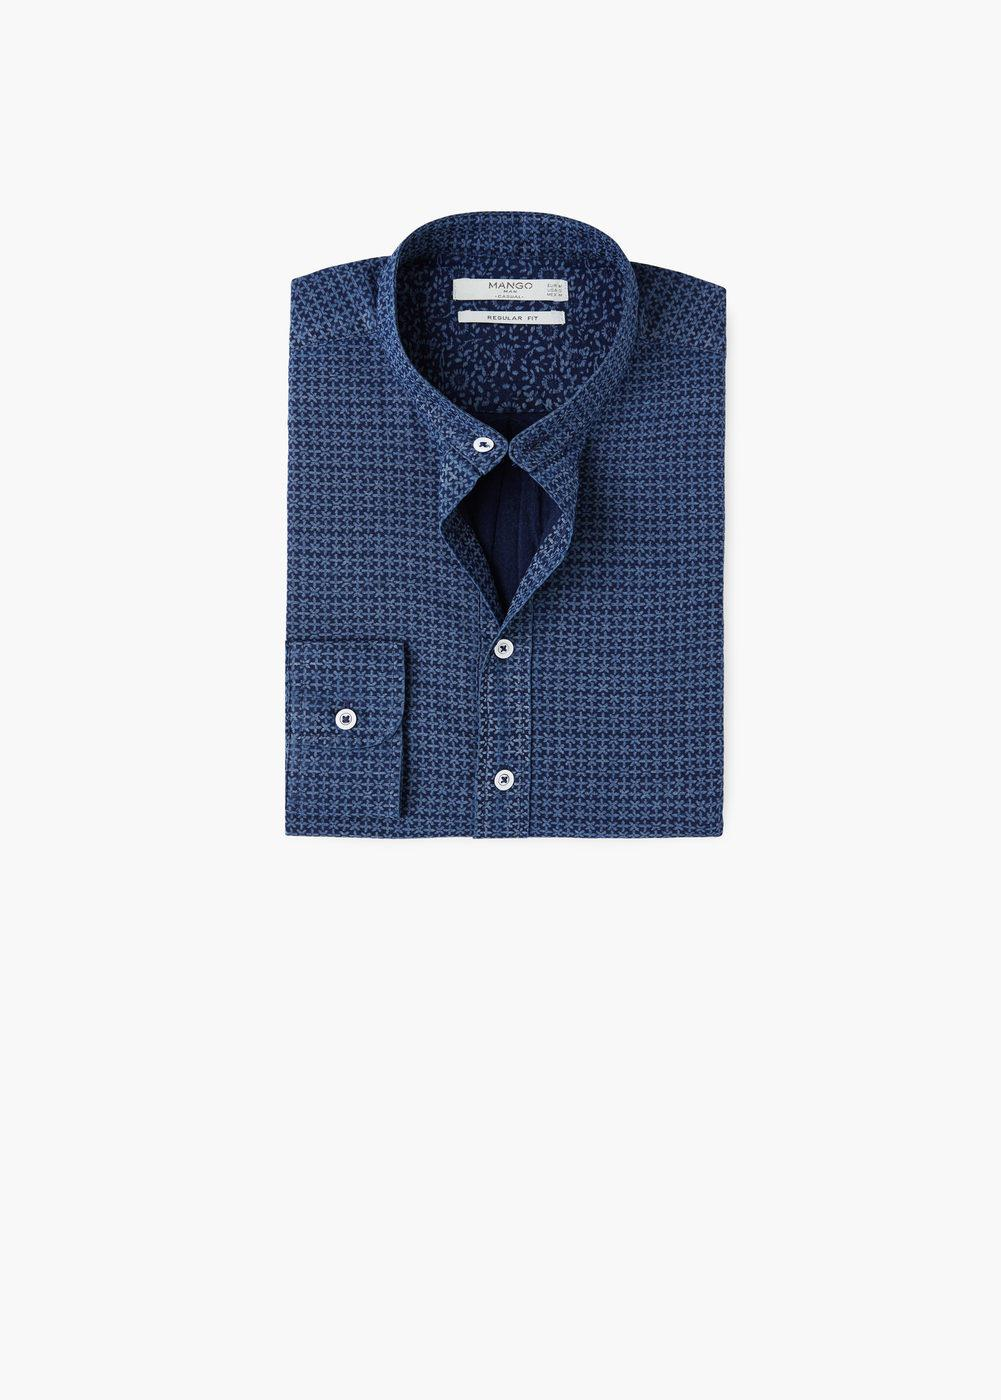teeshirt: (263, 197, 767, 869)
